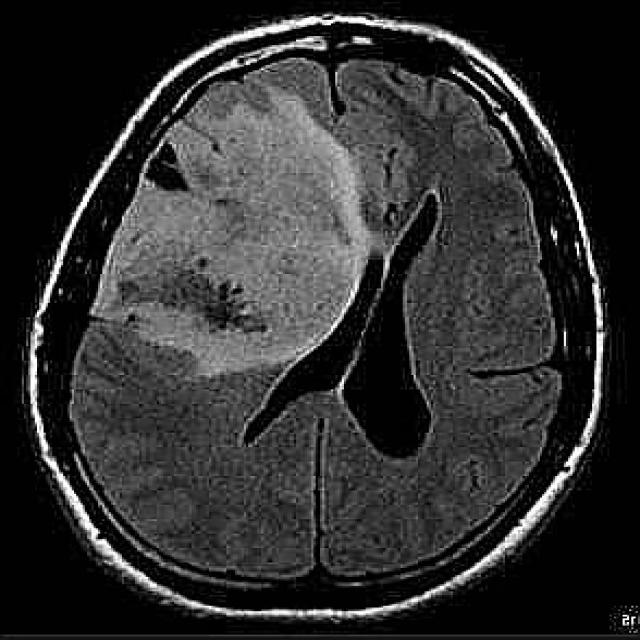Tumor-Cell: (141, 73, 354, 401), (86, 101, 285, 373)
